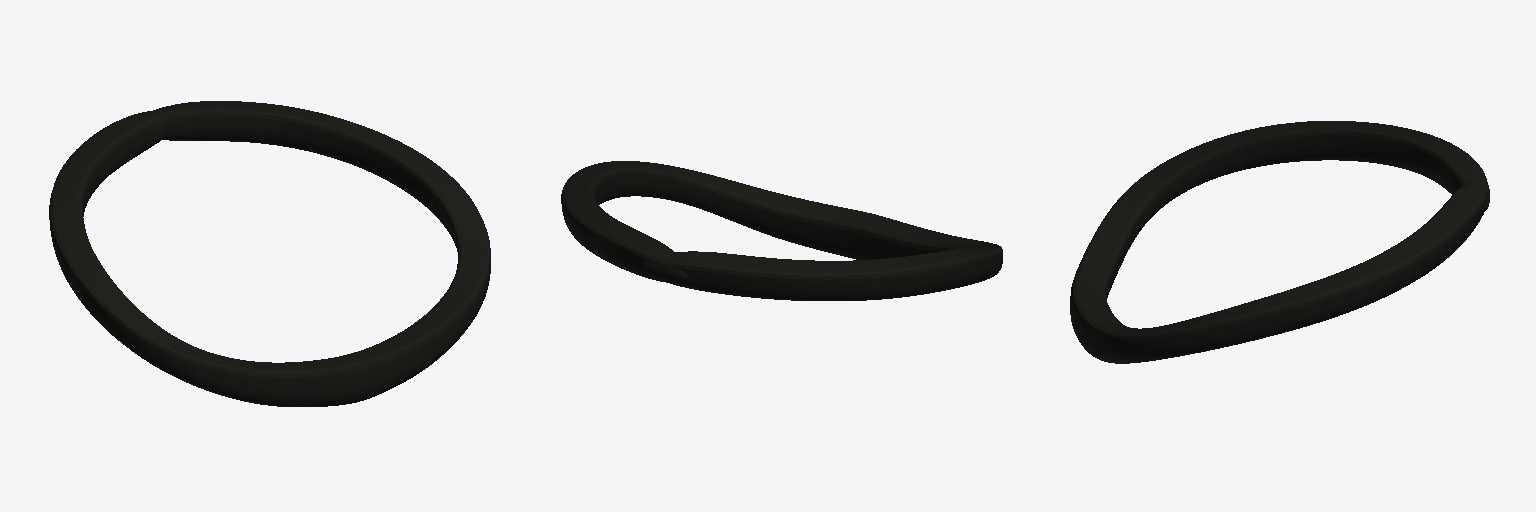
Rendered from kalung.obj.
3 renders of one model, left to right at view 1: azimuth 30°, elevation 25°; view 2: azimuth 150°, elevation 25°; view 3: azimuth 270°, elevation 25°, orthographic.
Parts seen in each view (by area): view 1: Corps_nu.023; view 2: Corps_nu.023; view 3: Corps_nu.023.
Boxes of the visible parts, x1=… form: Corps_nu.023: x1=49, y1=101, x2=490, y2=406; Corps_nu.023: x1=561, y1=161, x2=1002, y2=300; Corps_nu.023: x1=1070, y1=121, x2=1489, y2=363.
Size of the model in its own units: 2.35 by 0.8726 by 2.22.